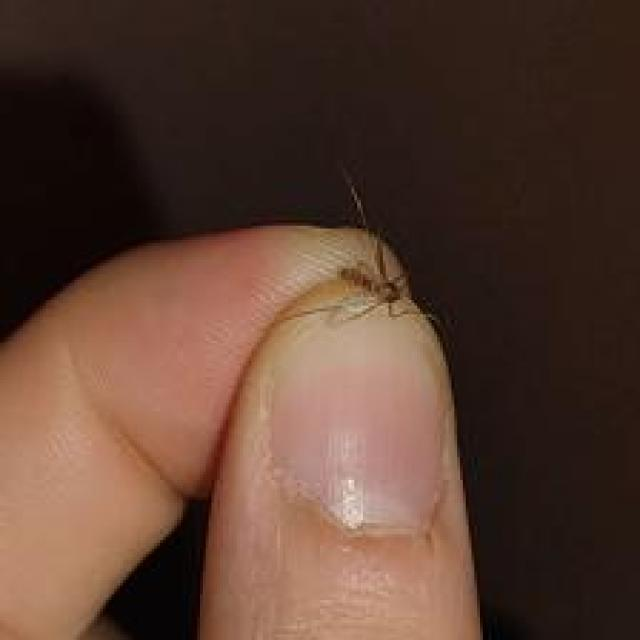Culex: (187, 174, 504, 640)
